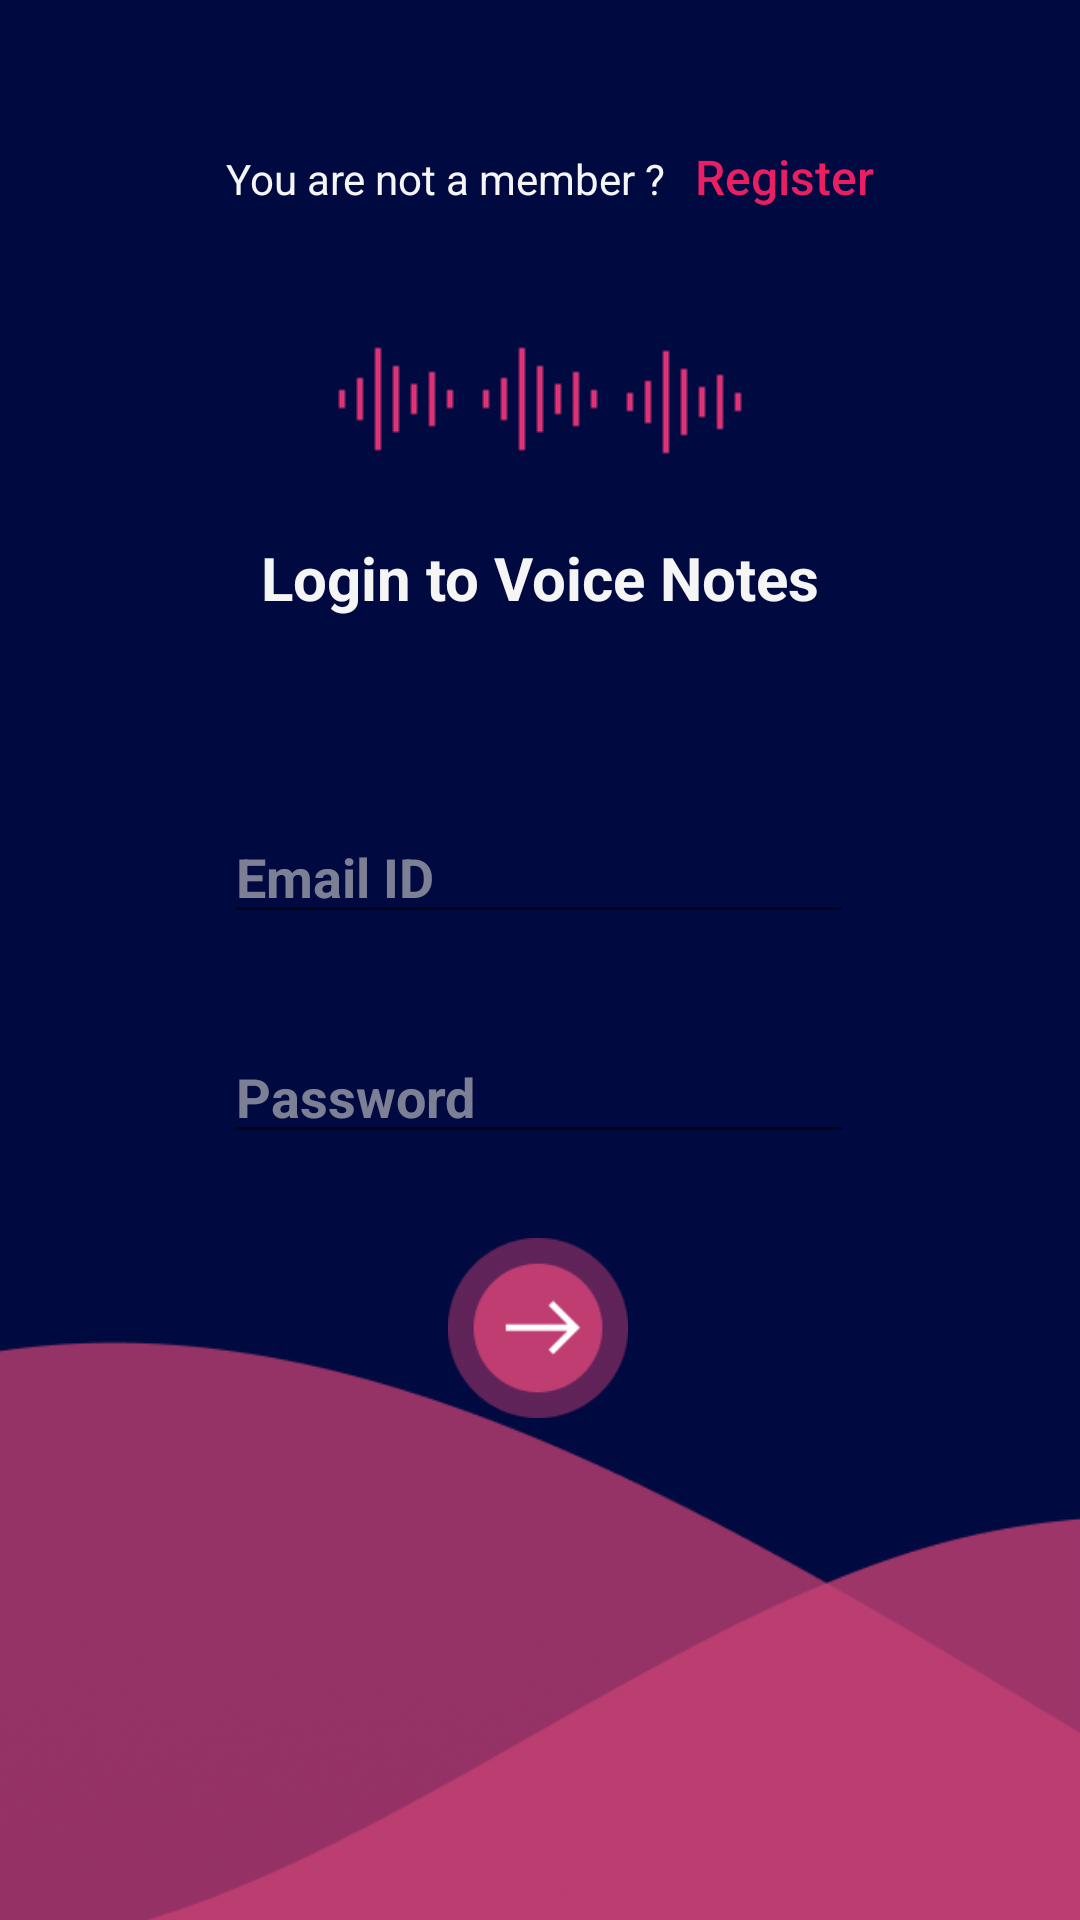

Screen size 1080*1920. Icon name, then its box in pixels as (x1, y1, x2, y2):
sounds: (338, 347, 454, 451), (482, 347, 598, 451), (626, 350, 742, 454)
